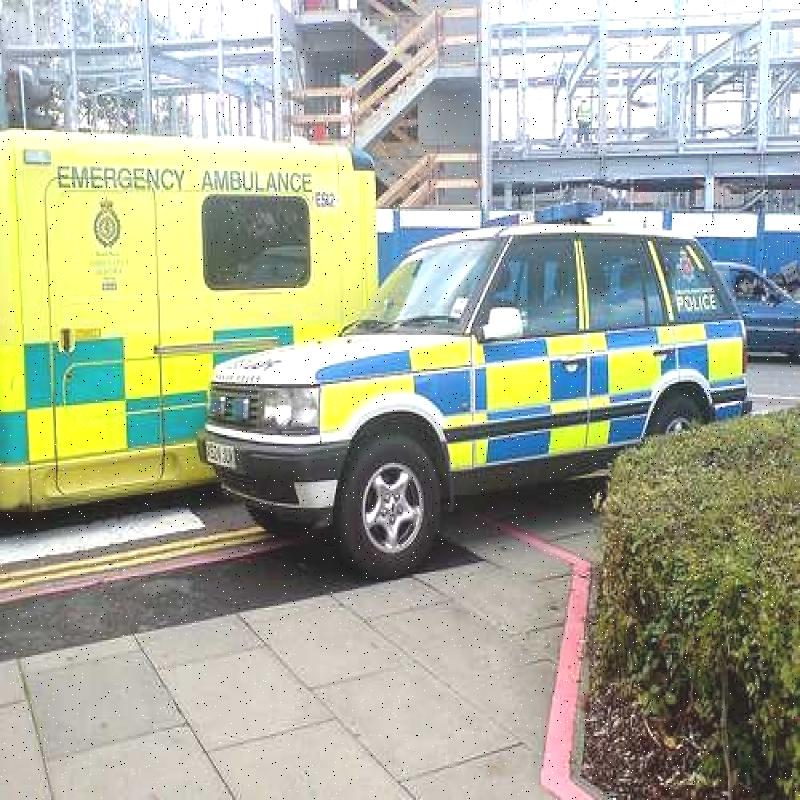AmbulanceSiren: (479, 194, 602, 235)
